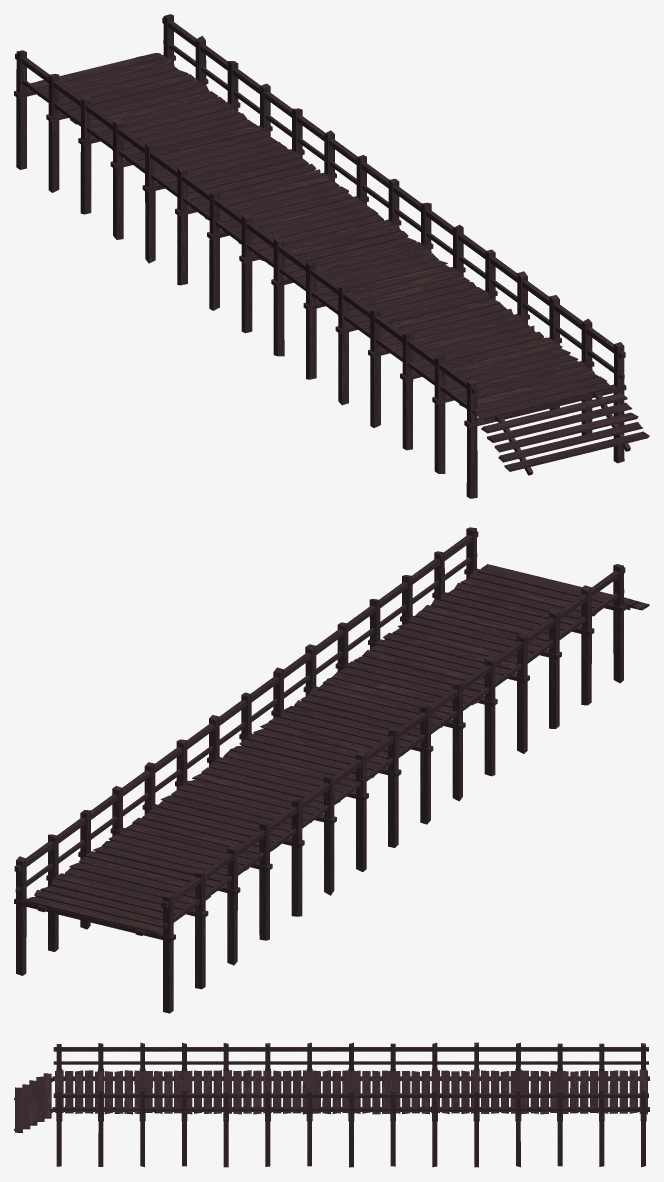
File: Puente.fbx
3 renders of one model, top to bottom at view 1: azimuth 30°, elevation 25°; view 2: azimuth 150°, elevation 25°; view 3: azimuth 270°, elevation 25°, orthographic. The views are drawn at different scales.
Parts seen in each view (by area): view 1: Tablas suelo puente, Vigas barandilla, Tablas escalera, Palo arriba izq barandilla, Palo arriba der barandilla, Apoyo barandilla, Palo abajo der barandilla, Palo abajo izq barandilla; view 2: Tablas suelo puente, Vigas barandilla, Palo arriba izq barandilla, Palo arriba der barandilla, Apoyo barandilla, Palo abajo der barandilla, Palo abajo izq barandilla; view 3: Tablas suelo puente, Vigas barandilla, Palo arriba der barandilla, Palo arriba izq barandilla, Palo abajo izq barandilla, Palo abajo der barandilla, Tablas escalera, Apoyo barandilla, Apoyo izq suelo puente, Apoyo der suelo puente.
Boxes of the visible parts, bbox=[...] form: Tablas suelo puente: bbox=[27, 53, 612, 419]; Vigas barandilla: bbox=[16, 14, 624, 498]; Tablas escalera: bbox=[481, 393, 649, 471]; Palo arriba izq barandilla: bbox=[15, 53, 478, 394]; Palo arriba der barandilla: bbox=[162, 17, 625, 358]; Apoyo barandilla: bbox=[14, 55, 626, 428]; Palo abajo der barandilla: bbox=[163, 40, 624, 379]; Palo abajo izq barandilla: bbox=[22, 79, 477, 414]; Tablas suelo puente: bbox=[24, 566, 609, 933]; Vigas barandilla: bbox=[16, 527, 623, 1013]; Palo arriba izq barandilla: bbox=[161, 567, 625, 908]; Palo arriba der barandilla: bbox=[14, 531, 478, 872]; Apoyo barandilla: bbox=[14, 568, 626, 941]; Palo abajo der barandilla: bbox=[15, 553, 477, 892]; Palo abajo izq barandilla: bbox=[162, 589, 624, 928]; Tablas suelo puente: bbox=[55, 1070, 647, 1114]; Vigas barandilla: bbox=[56, 1042, 645, 1167]; Palo arriba der barandilla: bbox=[53, 1093, 648, 1097]; Palo arriba izq barandilla: bbox=[53, 1047, 648, 1051]; Palo abajo izq barandilla: bbox=[53, 1061, 648, 1064]; Palo abajo der barandilla: bbox=[53, 1108, 648, 1111]; Tablas escalera: bbox=[15, 1073, 51, 1132]; Apoyo barandilla: bbox=[56, 1068, 646, 1121]; Apoyo izq suelo puente: bbox=[52, 1076, 649, 1080]; Apoyo der suelo puente: bbox=[52, 1107, 649, 1111].
Bounding box in the file's own units: 1001 × 715 × 5395.
1 material, 1 textured.
